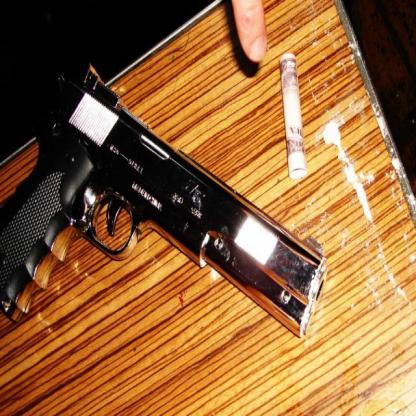weapon: (0, 62, 327, 340)
